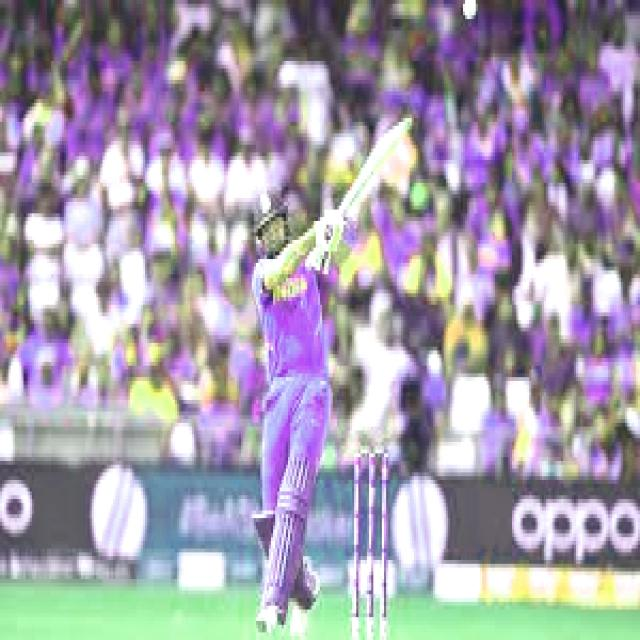toe: (396, 108, 417, 144)
